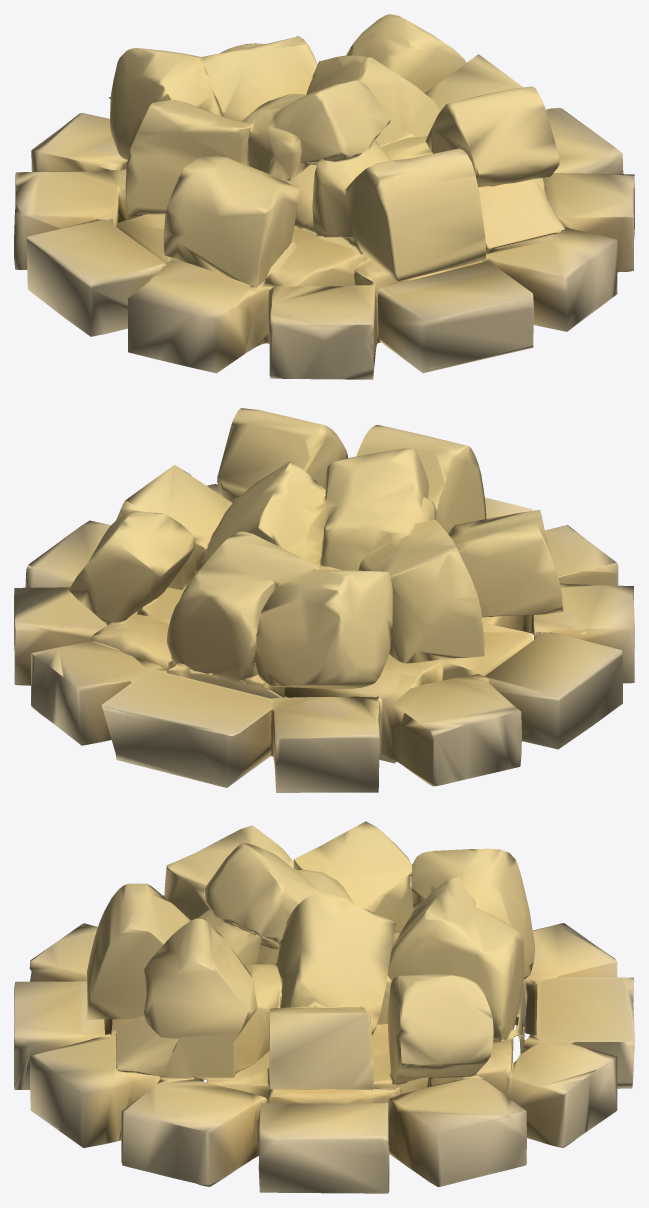
The model's file is Papa_Cruda.fbx.
3 views of the same model, one above another, from view 1: azimuth 30°, elevation 25°; view 2: azimuth 150°, elevation 25°; view 3: azimuth 270°, elevation 25° (orthographic).
Visible parts, largest first — view 1: Mesh_0; view 2: Mesh_0; view 3: Mesh_0.
Part boxes in pixels (<box>): Mesh_0: <box>14,14,634,379</box>; Mesh_0: <box>14,408,634,792</box>; Mesh_0: <box>14,821,634,1193</box>.
Bounding box in the file's own units: 190 × 72.12 × 190.
Materials: 1 (1 with a texture image).
